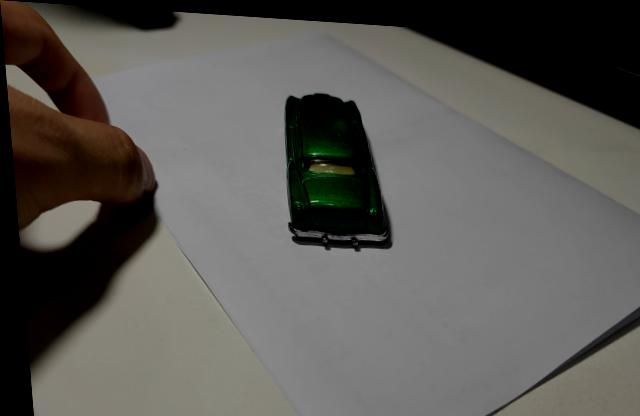06_MASERATI: (282, 89, 390, 248)
